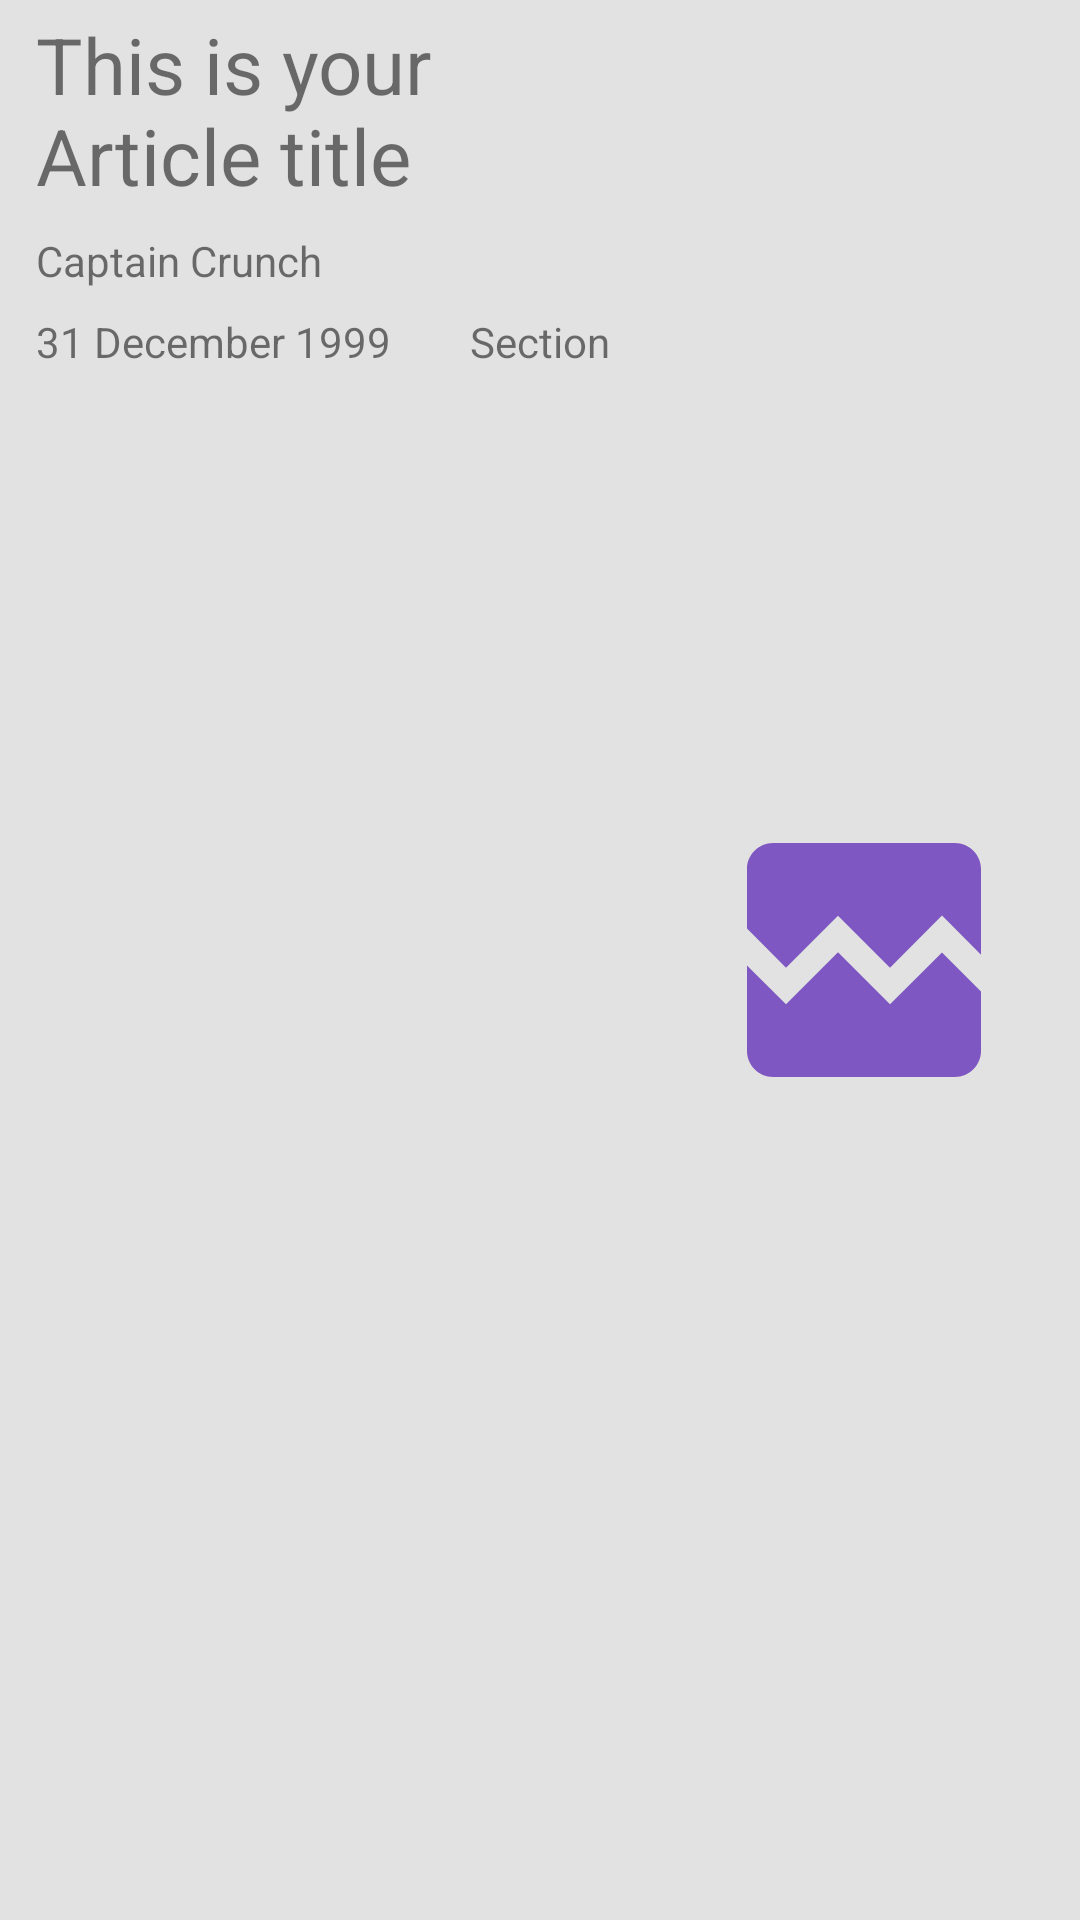

Where to tap for icons on this 1080x1920 app screen, as (x,y):
broken: (864,960)
